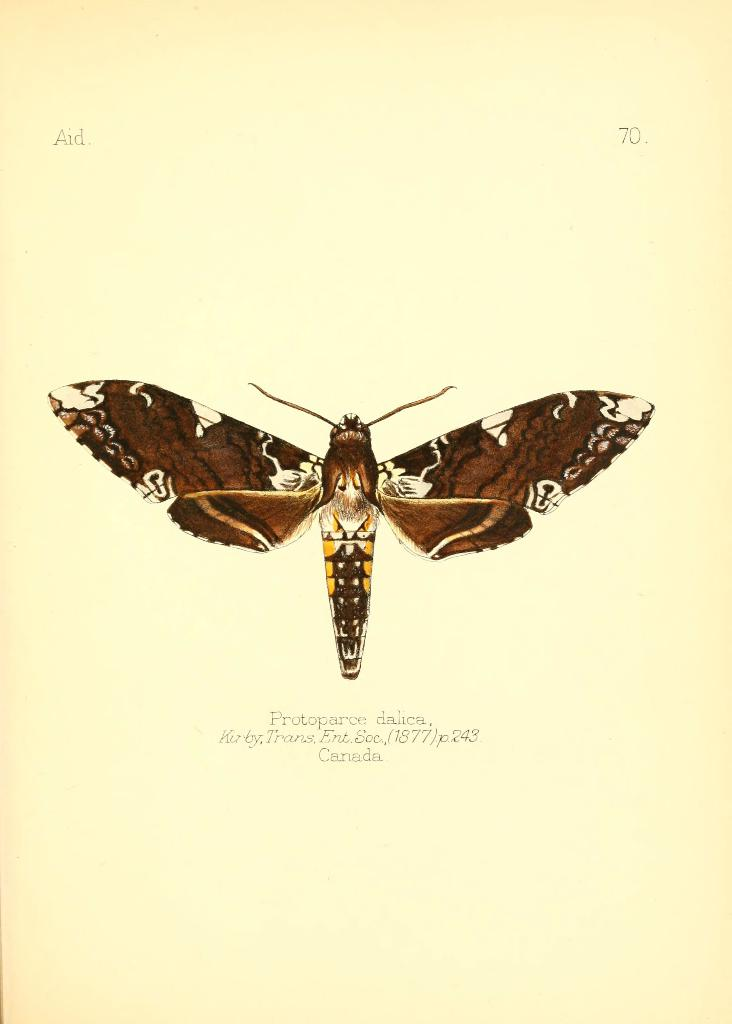Butterfly: (28, 335, 696, 719)
